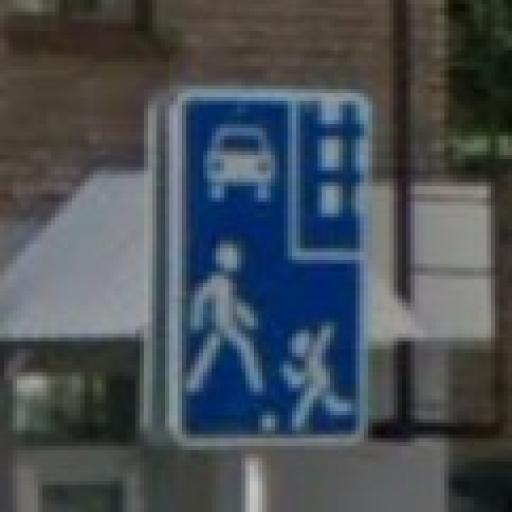traffic_sign: (170, 90, 378, 447)
